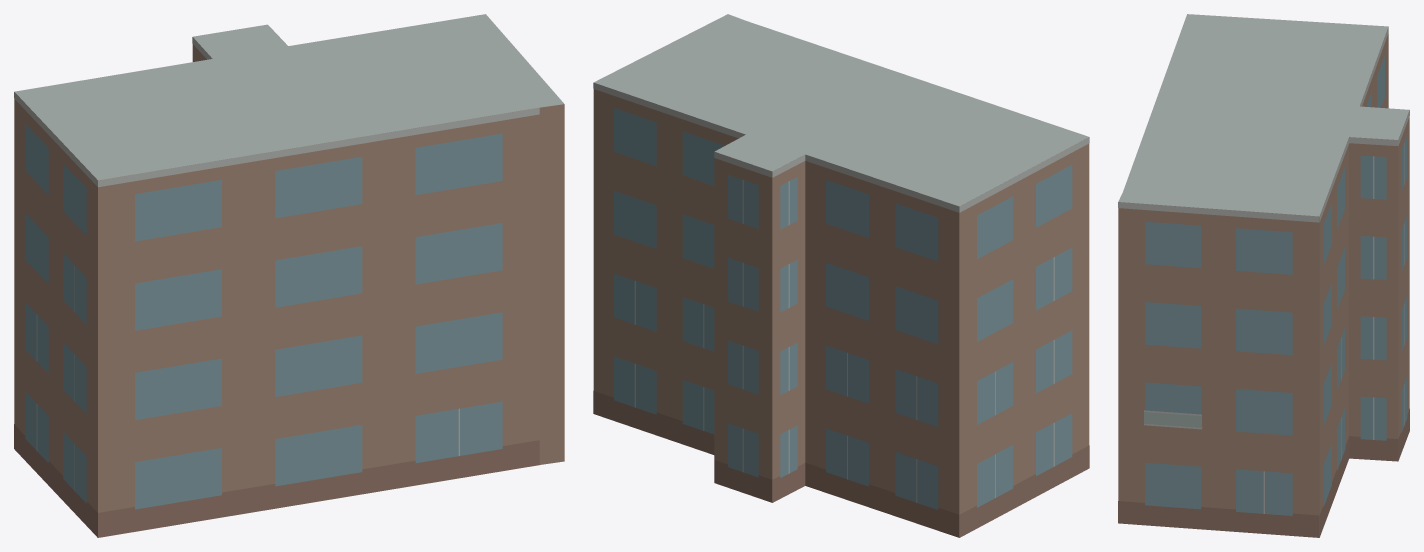
File: survey-upis-32759917.glb
3 renders of one model, left to right at view 1: azimuth 30°, elevation 25°; view 2: azimuth 150°, elevation 25°; view 3: azimuth 270°, elevation 25°, orthographic. The views are drawn at different scales.
Parts seen in each view (by area): view 1: survey-upis-32759917.tmp; view 2: survey-upis-32759917.tmp; view 3: survey-upis-32759917.tmp.
Boxes of the visible parts, x1,y1,x2,y2 form: survey-upis-32759917.tmp: (14, 14, 564, 537); survey-upis-32759917.tmp: (593, 14, 1089, 537); survey-upis-32759917.tmp: (1118, 14, 1409, 537).
Size of the model in its own units: 17.3 by 12.8 by 10.53.
